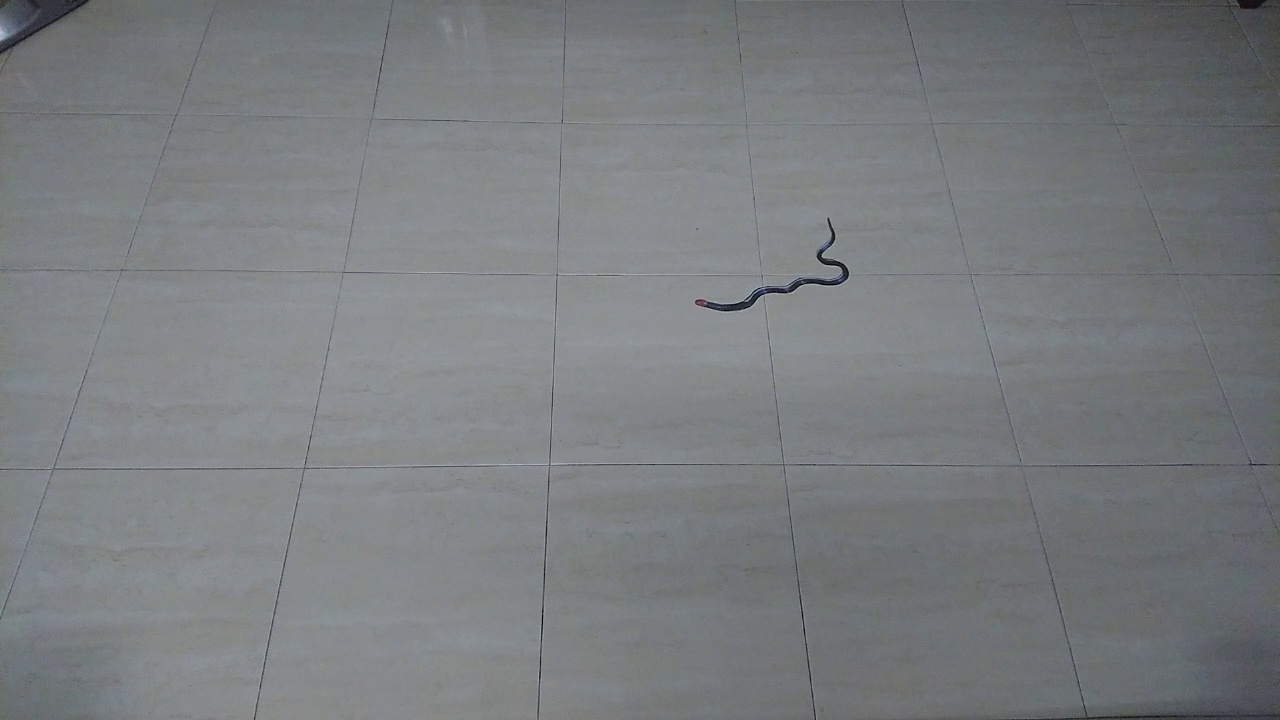snake: (677, 198, 864, 323)
